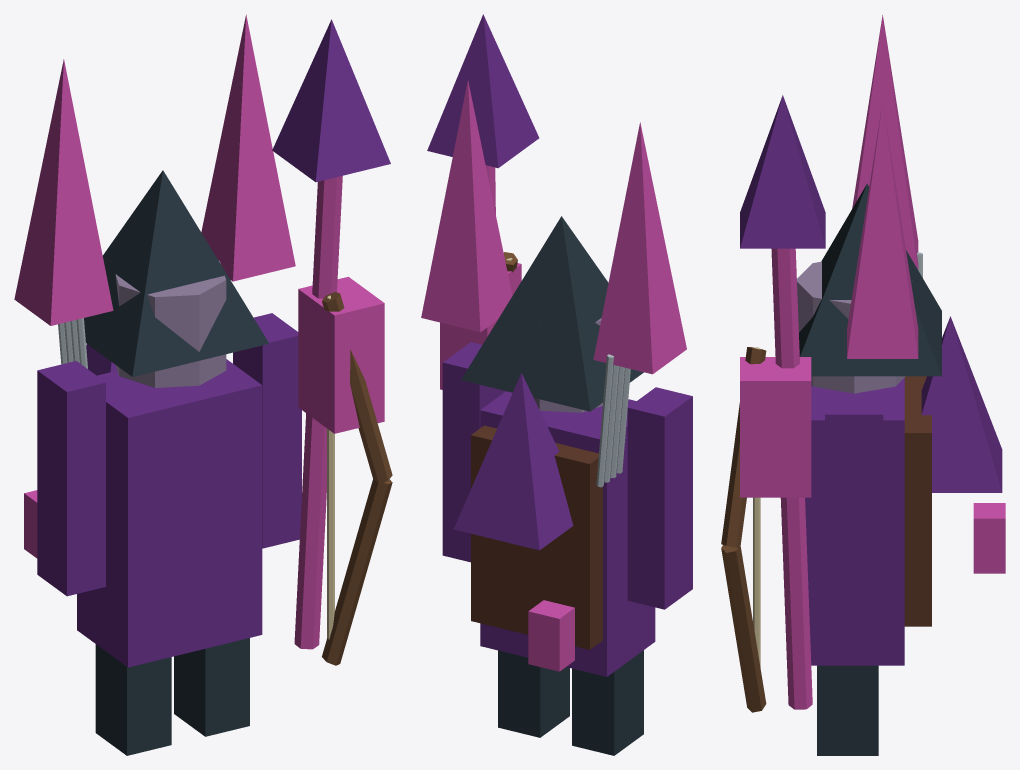
File: scout.obj
3 views of the same model, side by side, from view 1: azimuth 30°, elevation 25°; view 2: azimuth 150°, elevation 25°; view 3: azimuth 270°, elevation 25° (orthographic). The views are drawn at different scales.
Visible parts, largest first — view 1: ranged; view 2: ranged; view 3: ranged.
Part boxes in pixels (x1=…): ranged: x1=14, y1=14, x2=392, y2=755; ranged: x1=421, y1=14, x2=692, y2=755; ranged: x1=721, y1=15, x2=1005, y2=755.
Bounding box in the file's own units: 0.91 × 2.14 × 0.7977.
